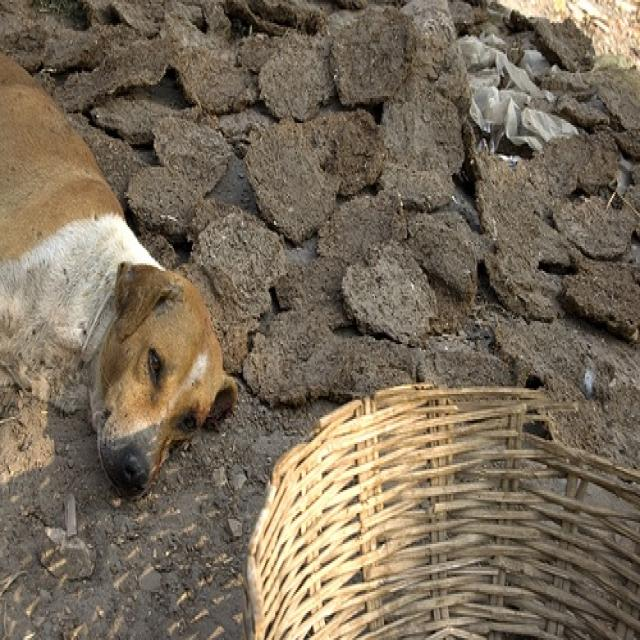dog: (1, 49, 238, 499)
